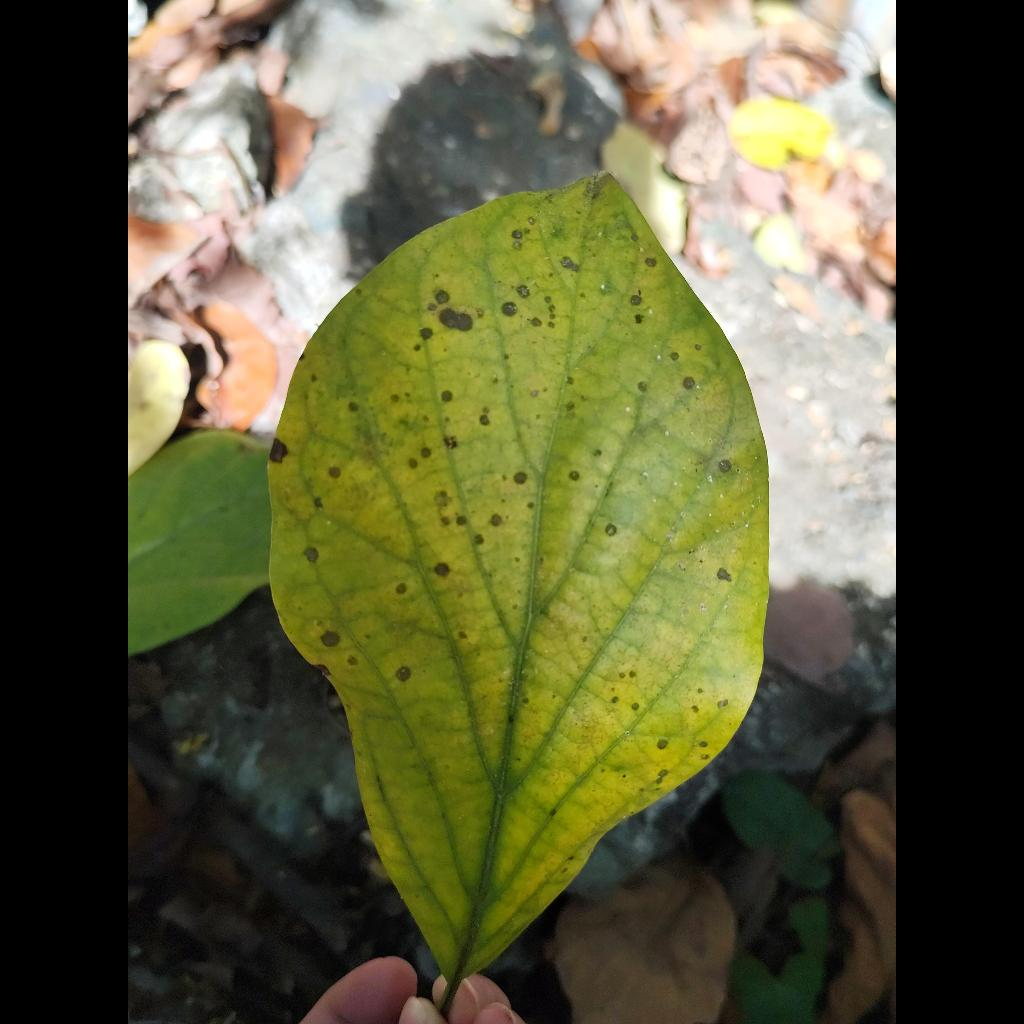nutrient_deficiency: (269, 174, 768, 992)
